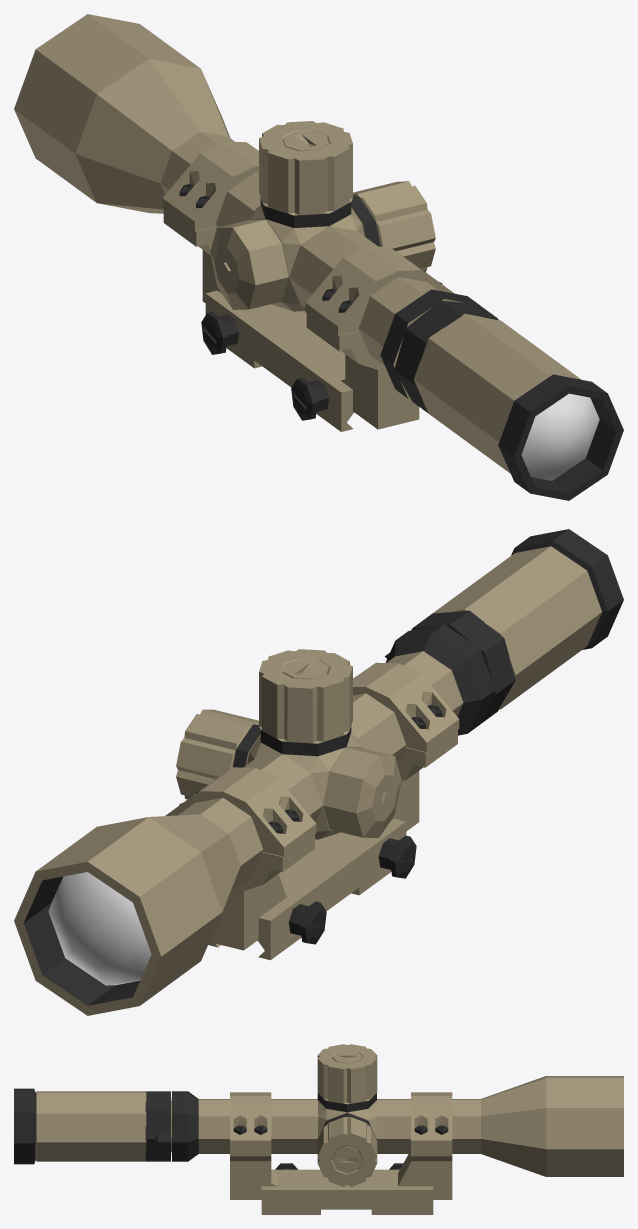
File: LongRangeScope.fbx
3 renders of one model, top to bottom at view 1: azimuth 30°, elevation 25°; view 2: azimuth 150°, elevation 25°; view 3: azimuth 270°, elevation 25°, orthographic. The views are drawn at different scales.
Parts seen in each view (by area): view 1: LongRangeScope; view 2: LongRangeScope; view 3: LongRangeScope.
Part boxes in pixels (x1,y1,x2,y2): LongRangeScope: (14,14,623,500); LongRangeScope: (14,529,623,1015); LongRangeScope: (14,1044,623,1214).
Bounding box in the file's own units: 7.4 × 8.82 × 32.91.
